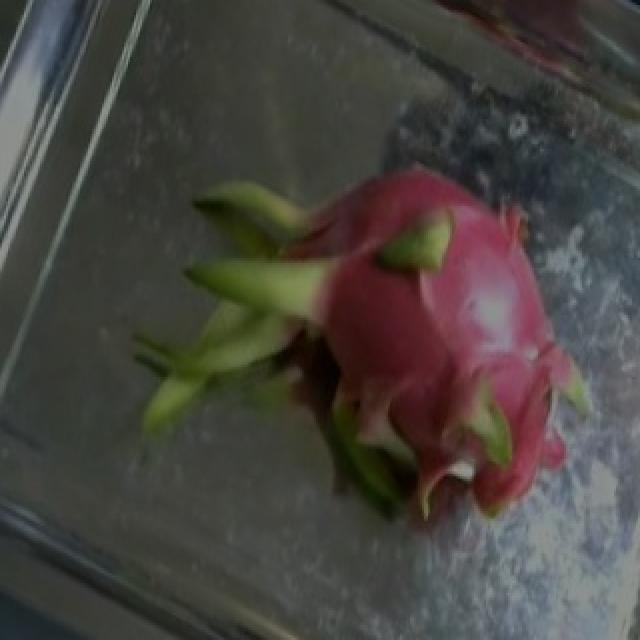fruit: (208, 137, 634, 596)
